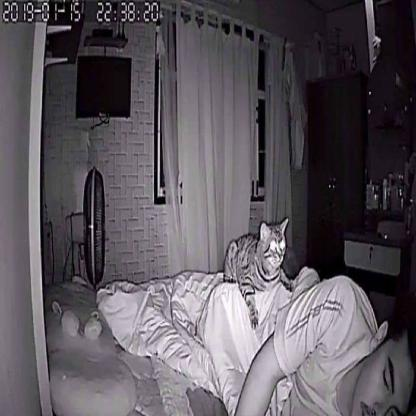cat: (218, 216, 298, 300)
